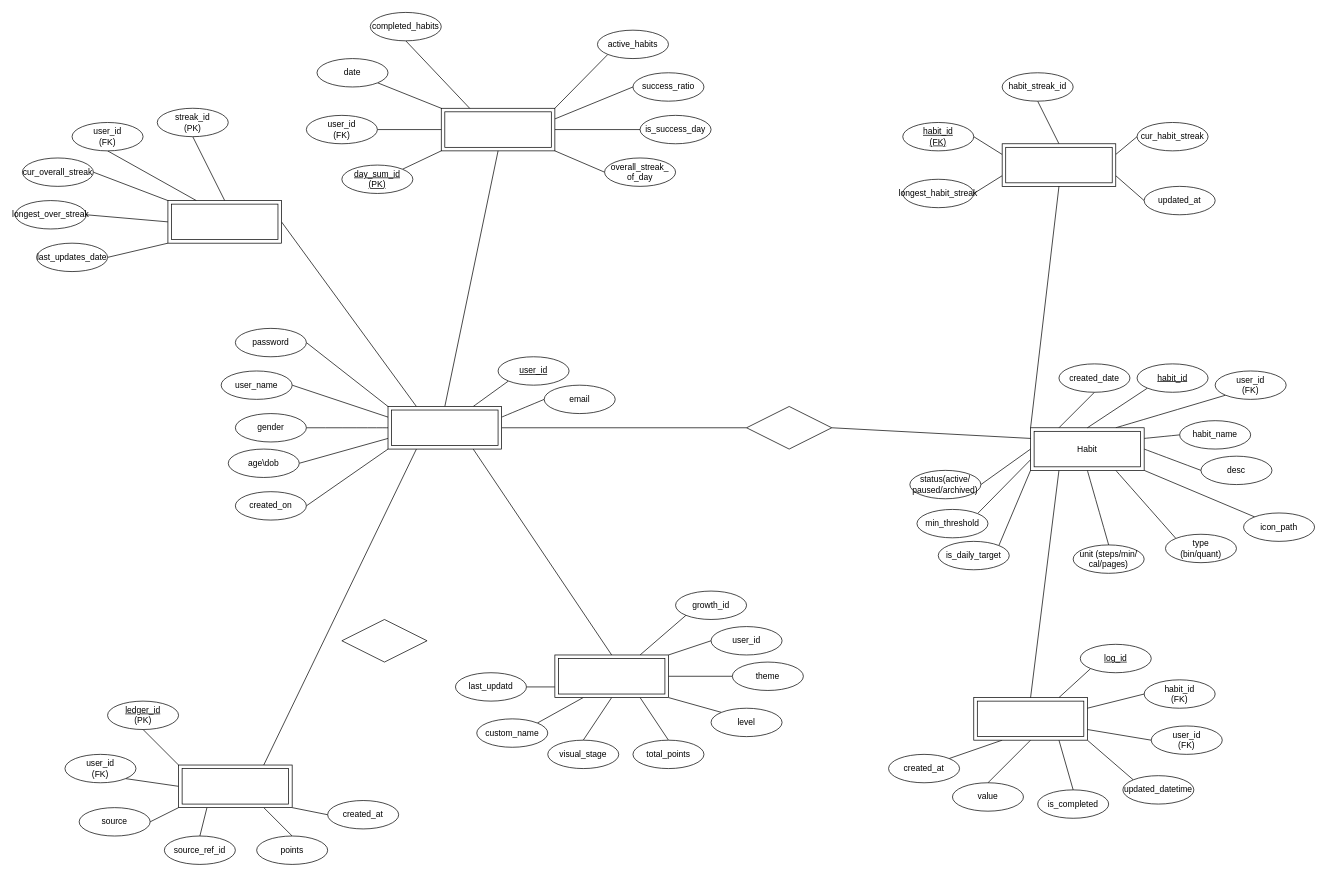
Some shapes in this 1327 by 877 pixel diagram are drawn without their labels. Here are the shapes that lost their labels. From the top down, the centre of each, then its label:
(498,129): daily_summary
(1058,164): Habit Streak
(224,221): overall_streak_state
(444,427): User
(789,427): creates
(384,640): adds
(611,676): growth_state
(1030,718): habit_log
(235,786): points_ledger
